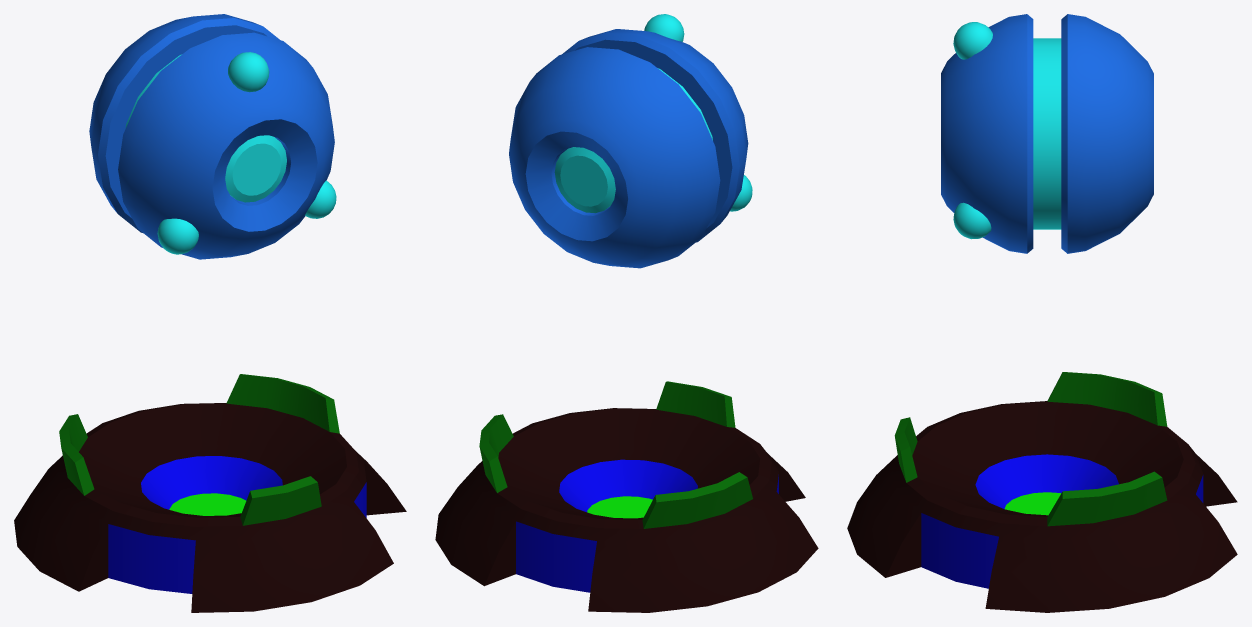
Rendered from SM_Collectible.FBX.
3 views of the same model, side by side, from view 1: azimuth 30°, elevation 25°; view 2: azimuth 150°, elevation 25°; view 3: azimuth 270°, elevation 25° (orthographic). The views are drawn at different scales.
Parts seen in each view (by area): view 1: Collectible_base, Collectible, Object001, Object002; view 2: Collectible_base, Collectible, Object002, Object001; view 3: Collectible_base, Collectible, Object001.
Part boxes in pixels (x1,y1,x2,y2): Collectible_base: (14, 374, 406, 612); Collectible: (89, 14, 334, 259); Object001: (157, 52, 336, 254); Object002: (225, 135, 286, 202); Collectible_base: (435, 381, 818, 612); Collectible: (509, 29, 748, 268); Object002: (554, 147, 615, 213); Object001: (644, 14, 752, 211); Collectible_base: (847, 372, 1237, 612); Collectible: (941, 14, 1153, 253); Object001: (953, 22, 992, 239).
Size of the model in its own units: 91.99 by 89.74 by 128.
